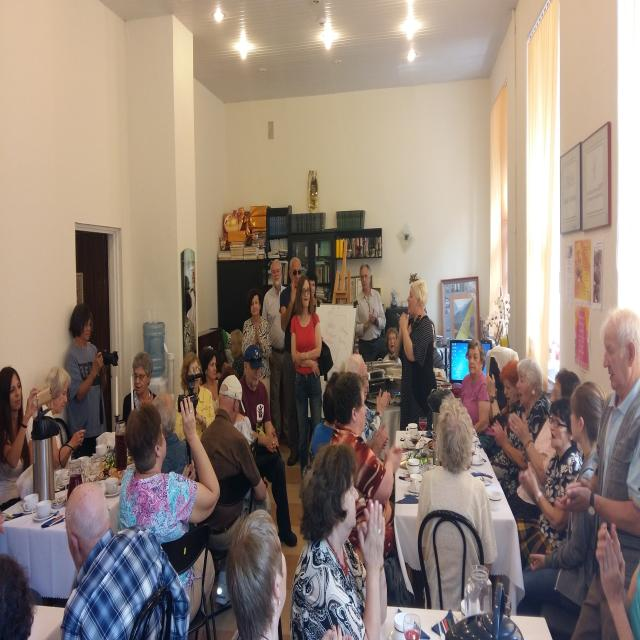body: (551, 308, 640, 640), (115, 394, 221, 640), (46, 478, 192, 640), (289, 443, 389, 640), (416, 395, 498, 611), (200, 373, 272, 606), (328, 372, 404, 553), (500, 368, 582, 522), (514, 397, 584, 574), (238, 344, 298, 547), (507, 379, 582, 521), (200, 372, 256, 550), (222, 504, 288, 640), (490, 357, 549, 502), (65, 303, 109, 460), (290, 274, 323, 481), (394, 278, 438, 431), (0, 366, 42, 508), (33, 364, 86, 472), (593, 521, 640, 640), (150, 391, 202, 484), (478, 358, 526, 458), (460, 338, 499, 460), (280, 257, 302, 467), (341, 354, 392, 442), (262, 258, 286, 442), (241, 289, 273, 414), (173, 352, 216, 442), (0, 552, 40, 640), (353, 262, 388, 362), (311, 367, 346, 462), (122, 351, 158, 428), (548, 366, 582, 410), (200, 347, 220, 418), (182, 265, 197, 353), (221, 328, 245, 381), (431, 319, 447, 373), (484, 372, 502, 419), (382, 327, 402, 364), (305, 269, 321, 314)
